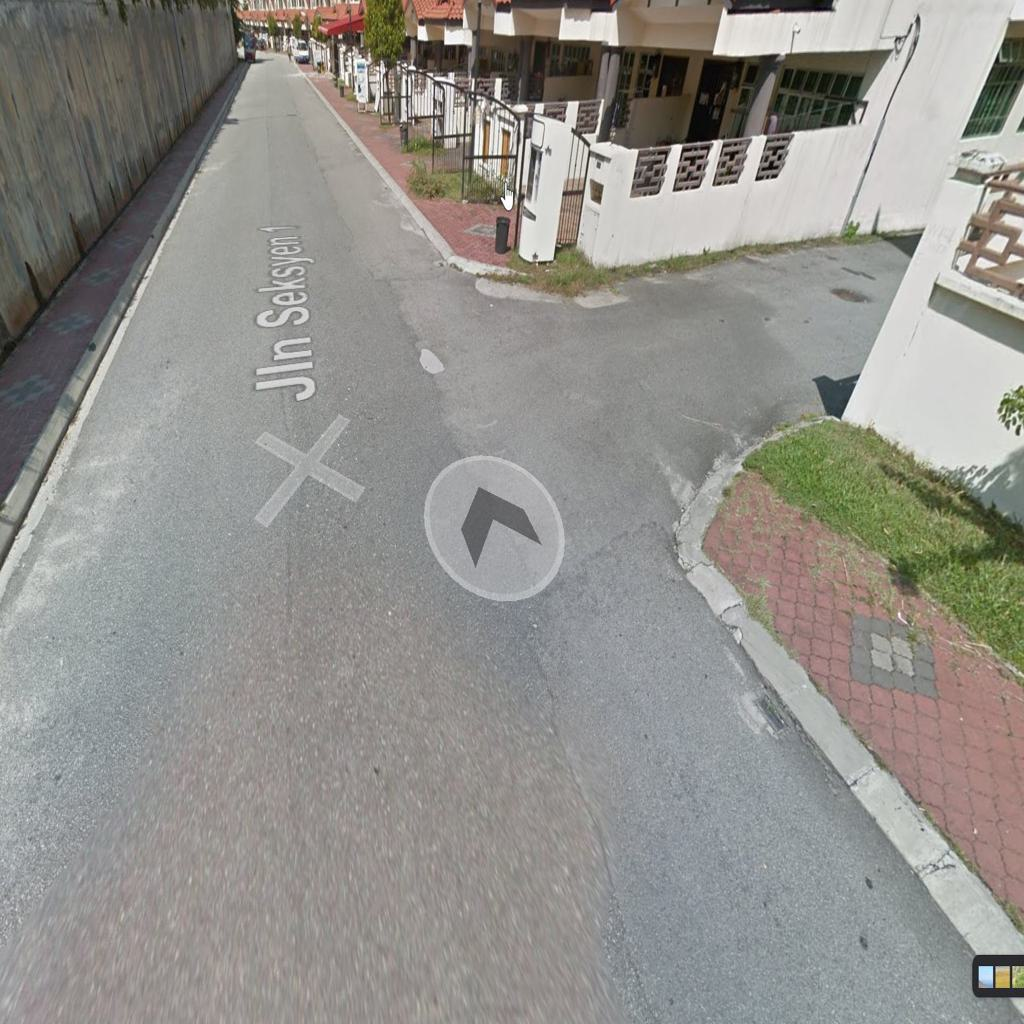Junction: (470, 229, 839, 523)
